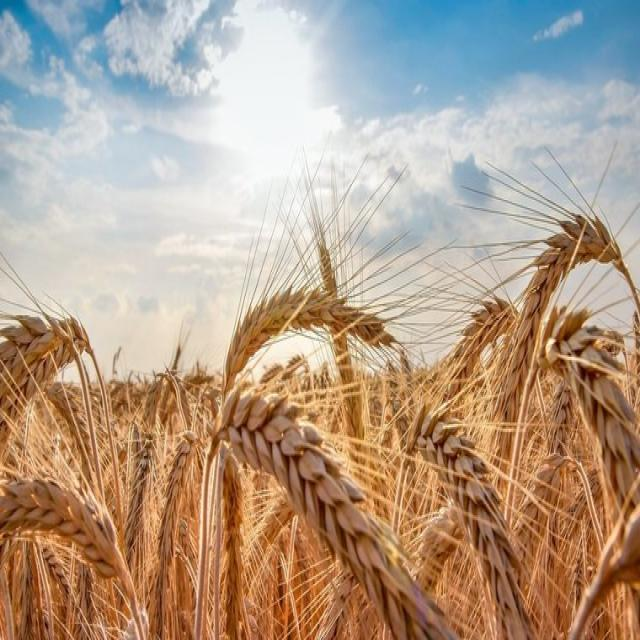Wheathead: (419, 198, 629, 640), (197, 283, 430, 640), (0, 450, 130, 588), (0, 305, 126, 423)
